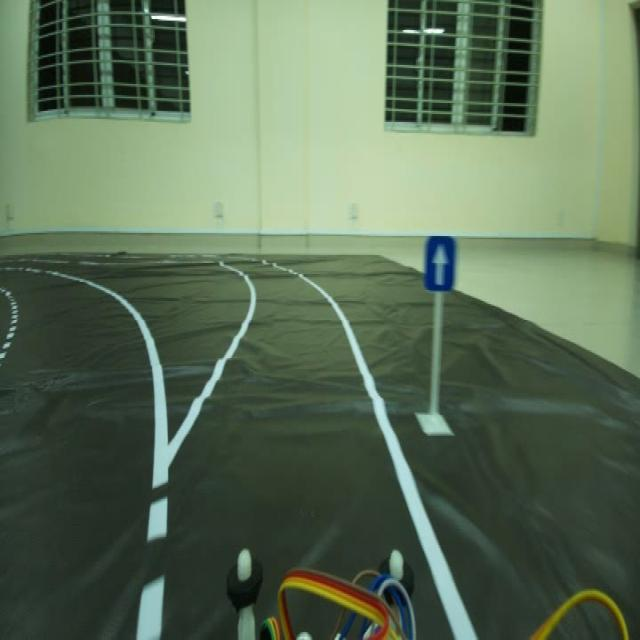onewayroad: (424, 233, 459, 295)
